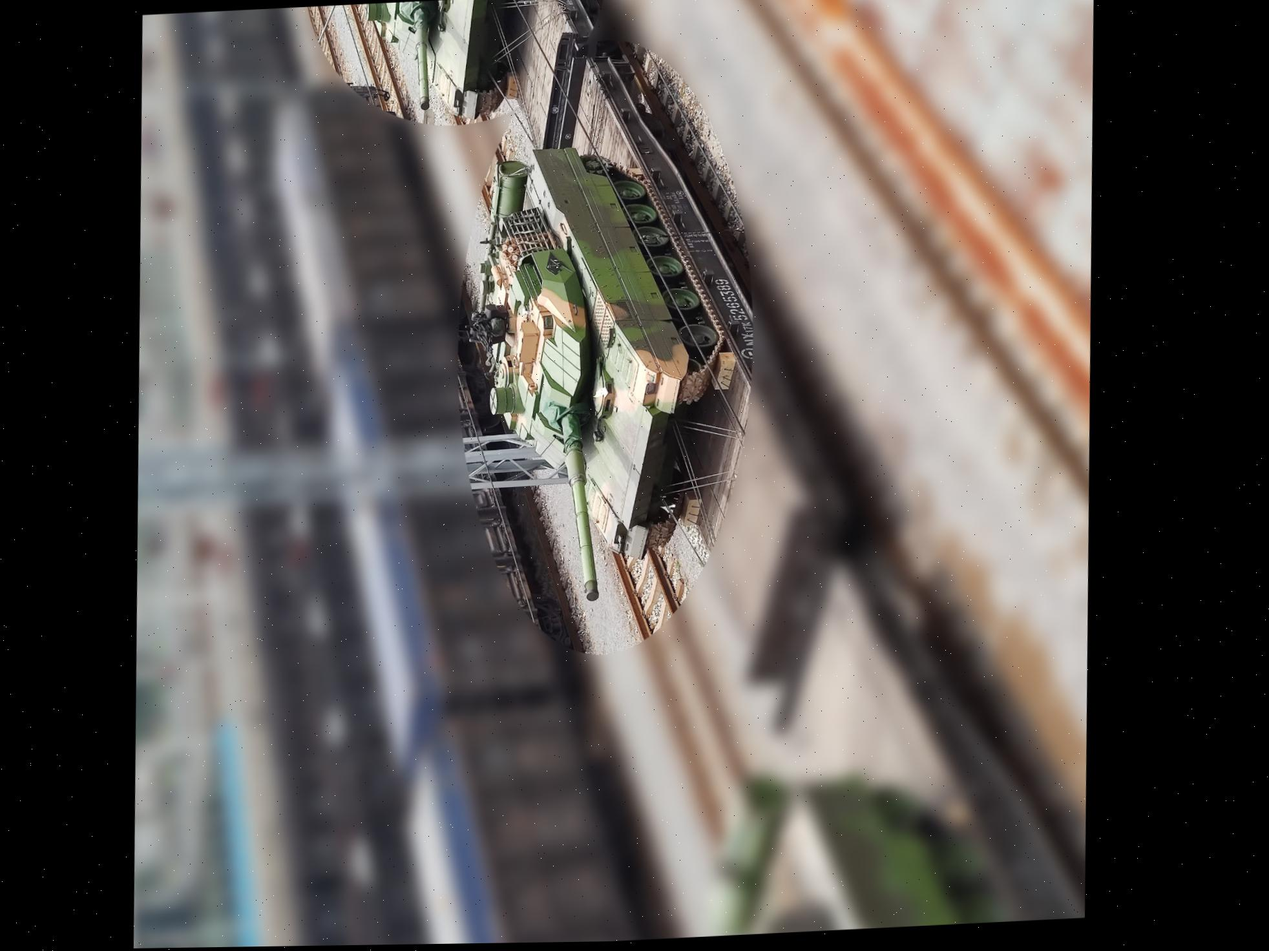tank: (452, 135, 751, 620), (339, 0, 541, 130)
